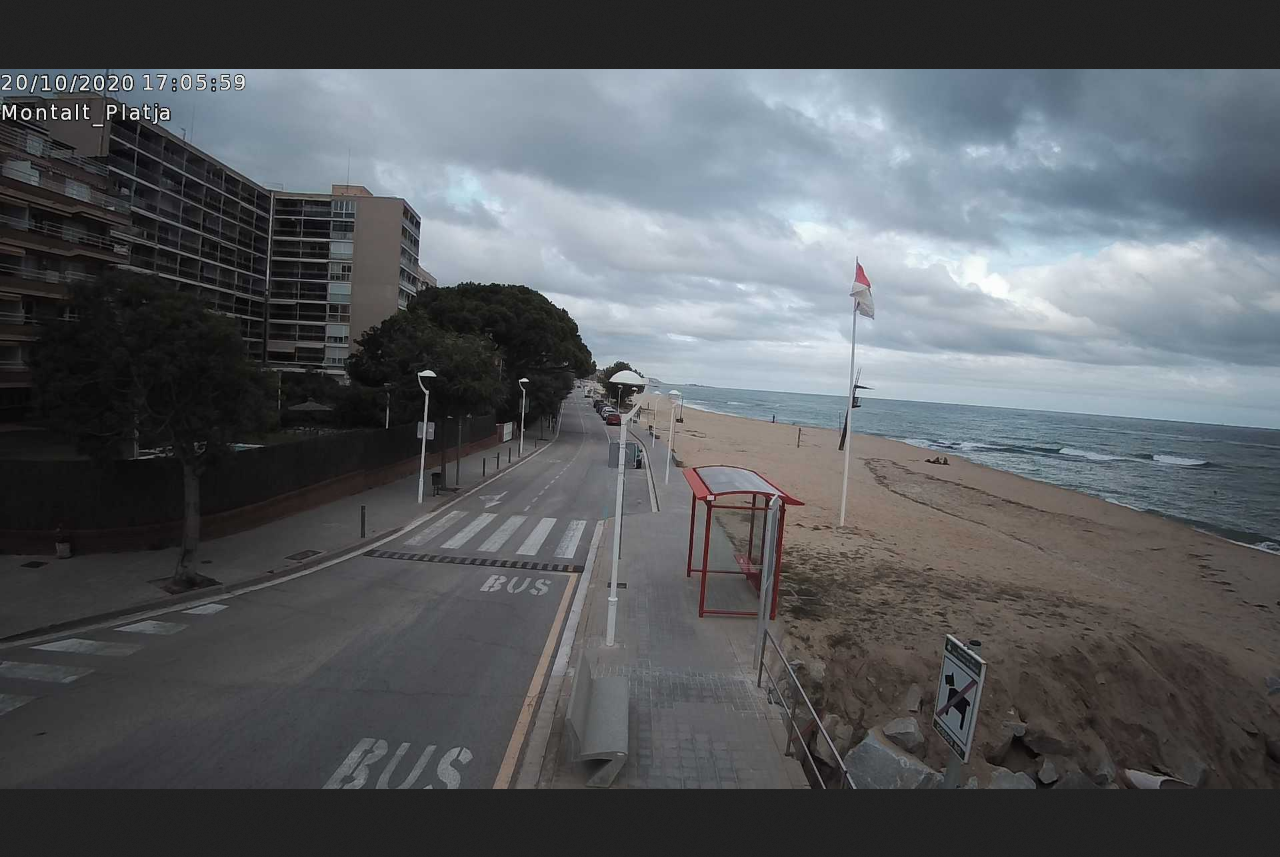maybe: (852, 261, 876, 319)
